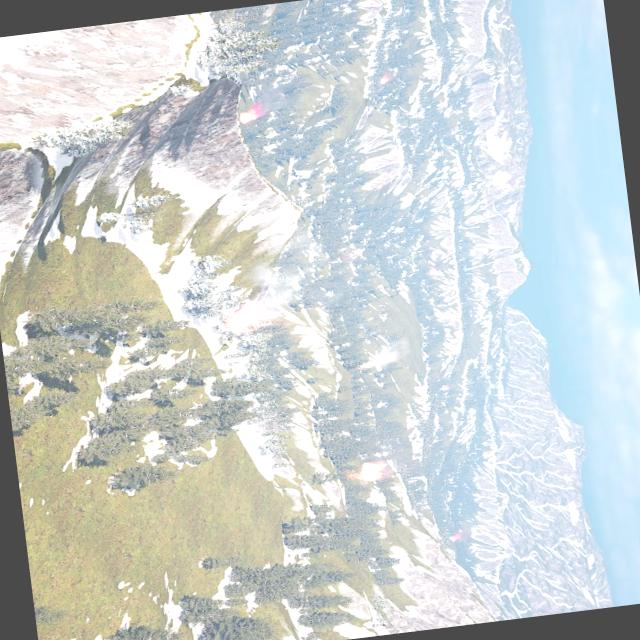fire: (227, 310, 256, 332), (358, 460, 382, 481), (238, 107, 260, 124), (378, 74, 390, 86), (424, 267, 438, 276), (356, 361, 370, 369), (448, 534, 459, 542), (437, 384, 448, 391)
smoke: (244, 262, 302, 322), (370, 342, 408, 367), (252, 86, 282, 113), (452, 524, 480, 540)
